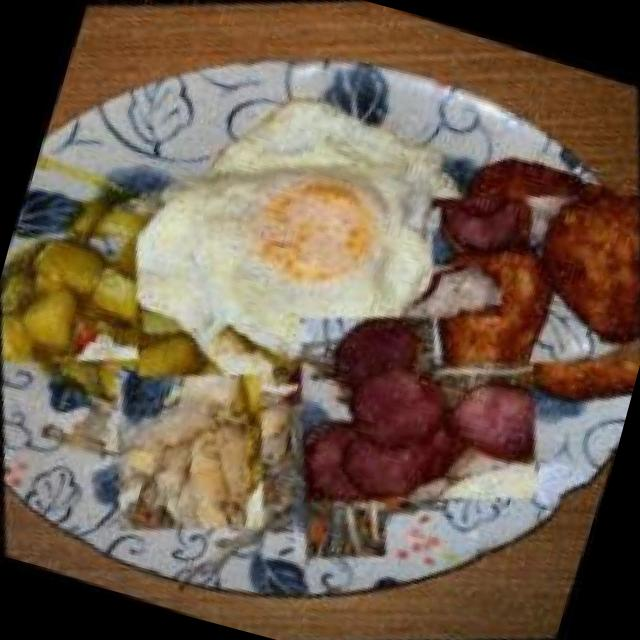chinese_cabbage: (61, 319, 316, 574)
chinese_sausage: (242, 242, 592, 572)
curry: (0, 169, 214, 428)
fried_eggs: (51, 5, 544, 476)
mung_bean_sprouts: (235, 379, 438, 581)
rice: (409, 240, 516, 340)
triangle_hash_brown: (384, 112, 640, 434)
